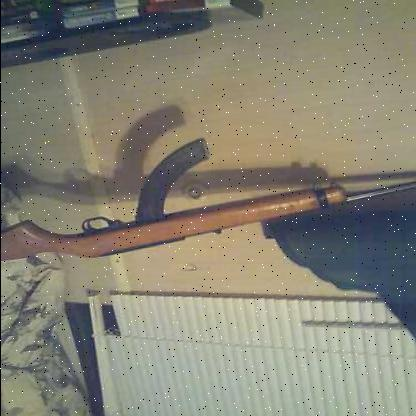rifle: (1, 132, 414, 291)
